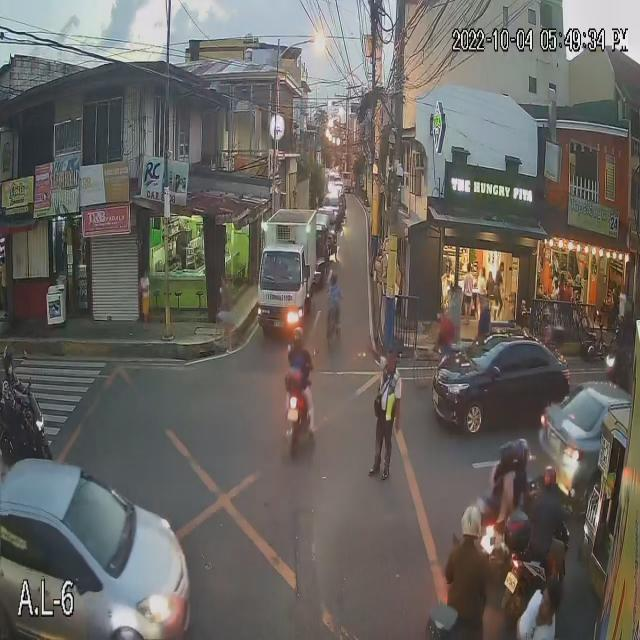helmet: (458, 505, 484, 551), (0, 341, 21, 379), (513, 433, 535, 467), (540, 461, 562, 492), (499, 440, 516, 471), (290, 325, 308, 346), (540, 306, 552, 323)
motorcycle: (514, 521, 579, 615), (272, 377, 328, 467), (0, 389, 57, 476), (473, 499, 533, 562)
rider: (446, 505, 496, 607), (280, 325, 320, 398), (534, 464, 564, 553), (506, 433, 536, 505), (0, 341, 24, 427), (488, 439, 513, 519), (539, 302, 559, 345)
